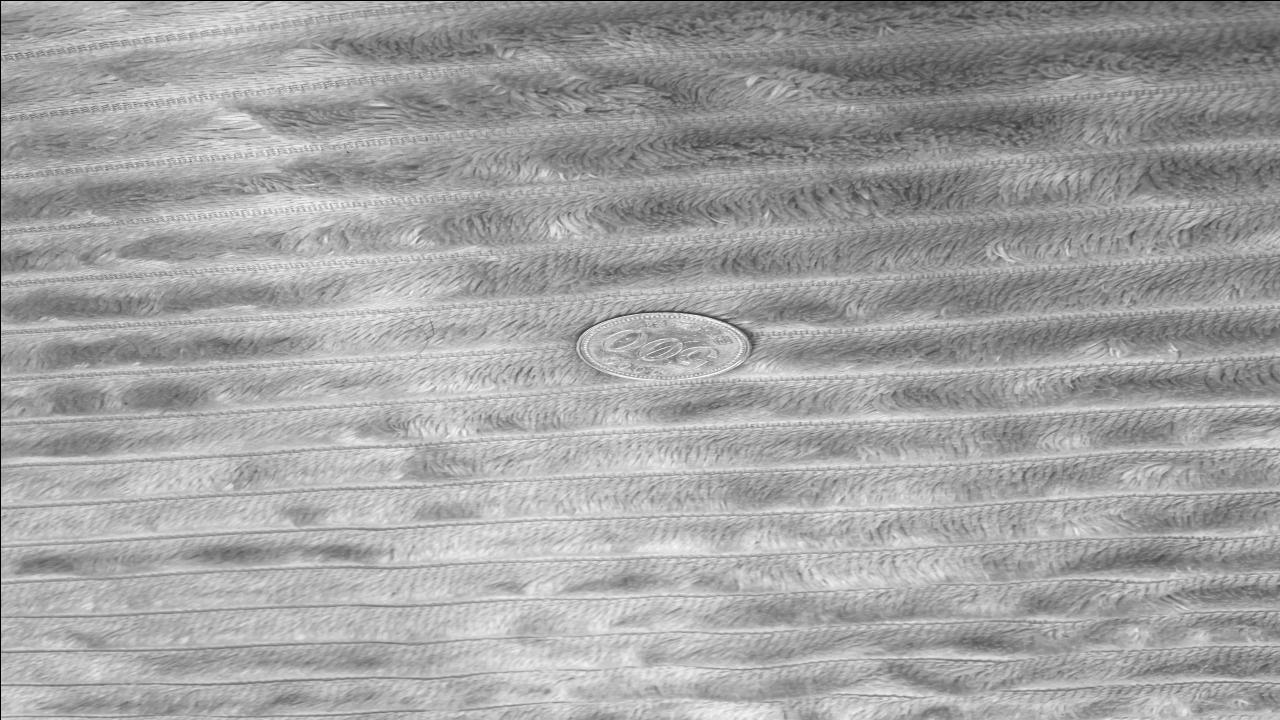coin: (574, 310, 756, 382)
